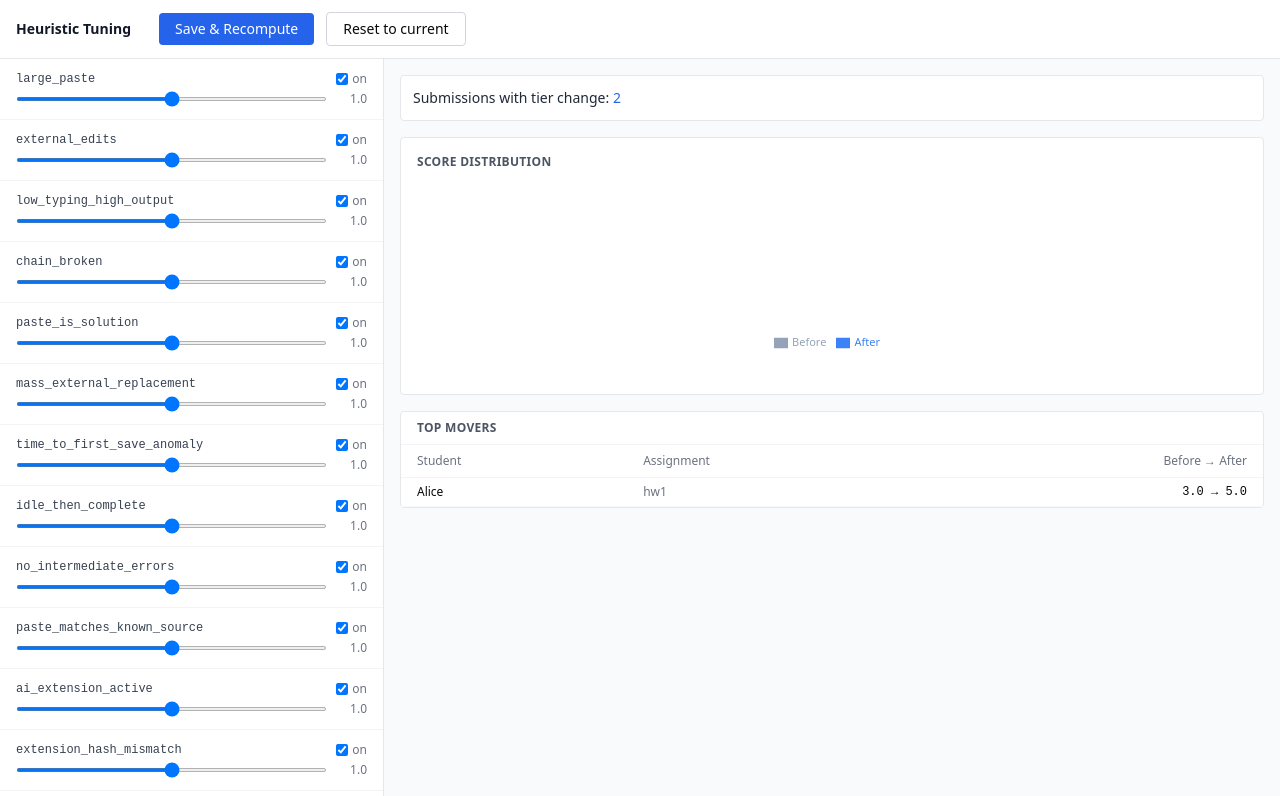
Test case: TuningView › "Save & Recompute" navigates with recompute_job param on success
Step 1. Click the button with test id "save-recompute-btn" → {"x": 237, "y": 29}, box [159,13,314,45]
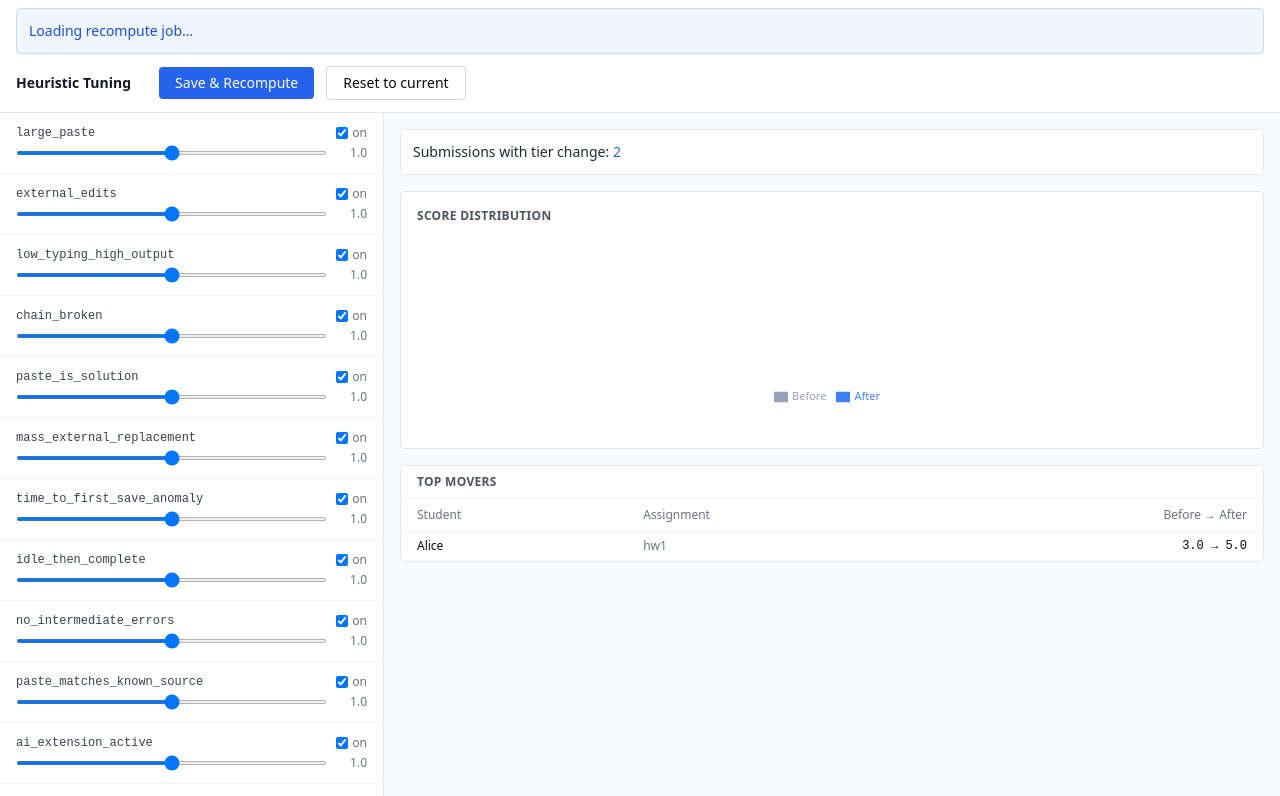
Result: the text "Loading recompute job…" is shown at [16,8,1264,54]
